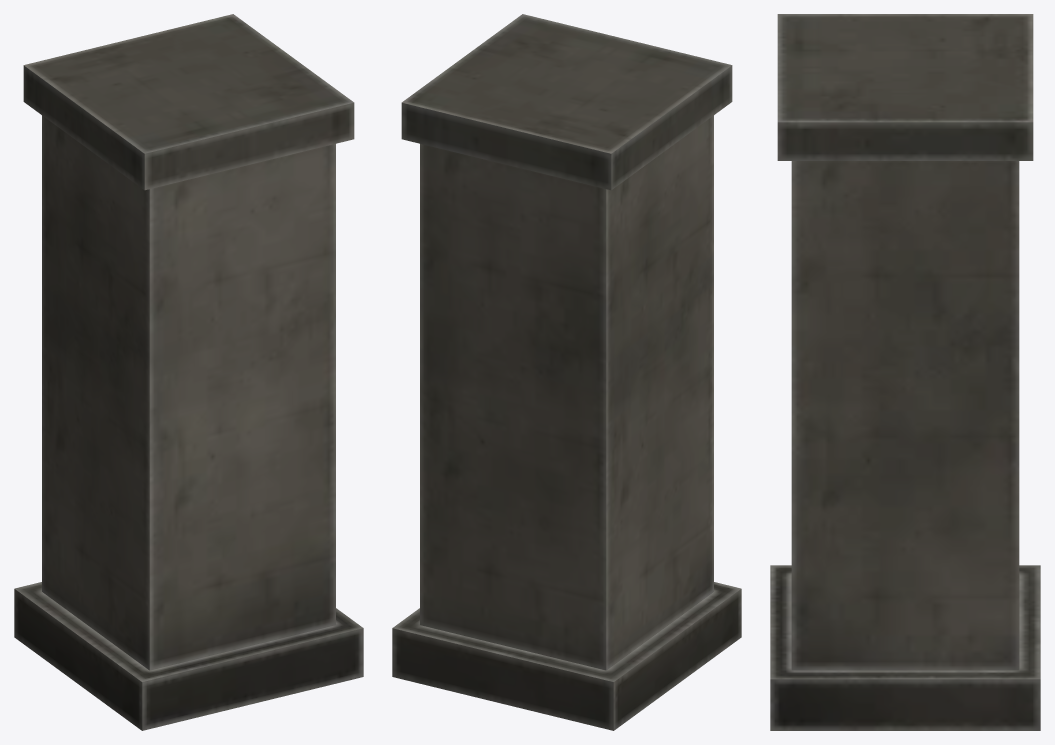
The model's file is wall_post.glb.
3 views of the same model, side by side, from view 1: azimuth 30°, elevation 25°; view 2: azimuth 150°, elevation 25°; view 3: azimuth 270°, elevation 25° (orthographic). The views are drawn at different scales.
Parts seen in each view (by area): view 1: te_grounds_wall_post; view 2: te_grounds_wall_post; view 3: te_grounds_wall_post.
Part boxes in pixels (<box>): te_grounds_wall_post: <box>14,14,363,730</box>; te_grounds_wall_post: <box>392,14,741,730</box>; te_grounds_wall_post: <box>770,14,1040,730</box>.
Bounding box in the file's own units: 0.19 × 0.47 × 0.19.
Materials: 1 (1 with a texture image).
